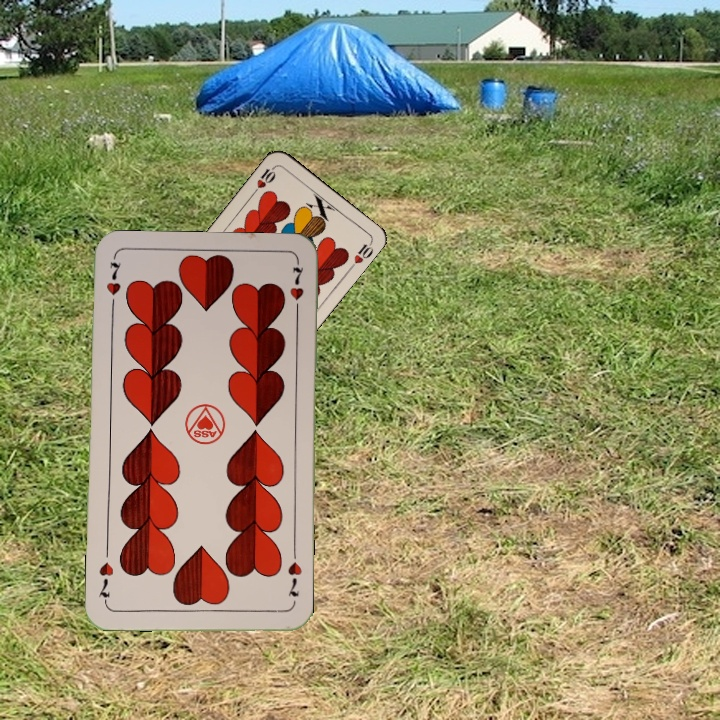H10: (249, 162, 278, 197)
H7: (102, 258, 123, 314), (283, 558, 304, 599)
